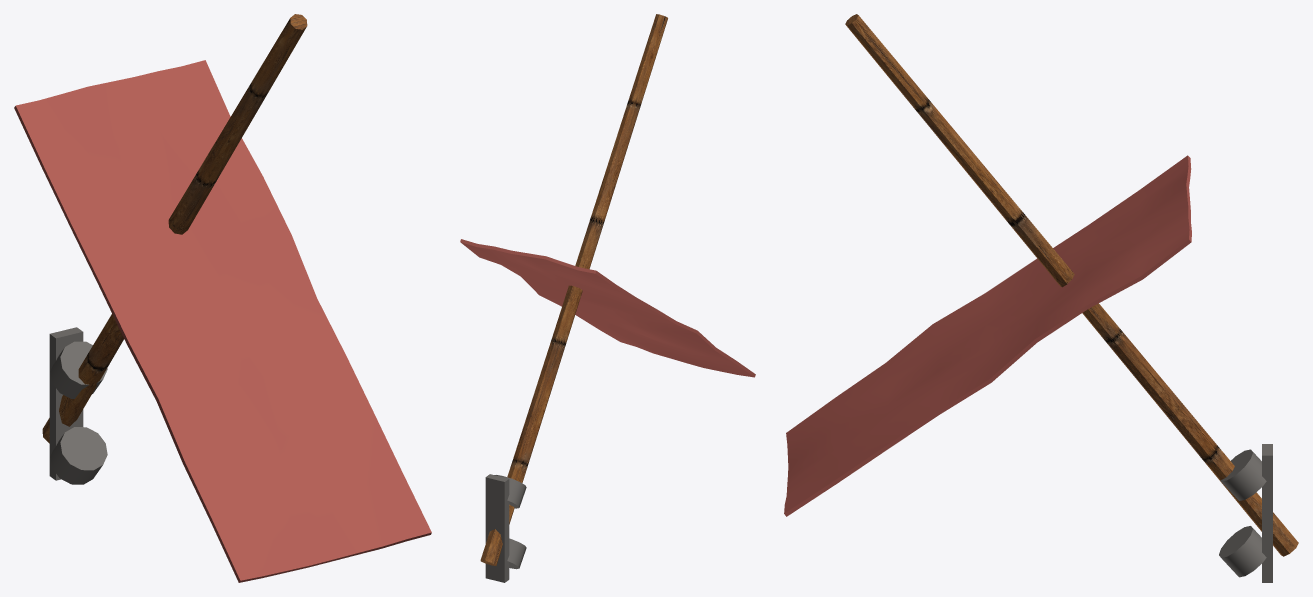
Rendered from flag-bracket-v01.glb.
3 views of the same model, side by side, from view 1: azimuth 30°, elevation 25°; view 2: azimuth 150°, elevation 25°; view 3: azimuth 270°, elevation 25° (orthographic). The views are drawn at different scales.
Parts seen in each view (by area): view 1: flag-bracket; view 2: flag-bracket; view 3: flag-bracket.
Part boxes in pixels (x1,y1,x2,y2): flag-bracket: [14, 14, 431, 582]; flag-bracket: [460, 14, 755, 582]; flag-bracket: [784, 14, 1298, 582].
Bounding box in the file's own units: 0.7027 × 2.21 × 1.83.
3 materials, 1 textured.
